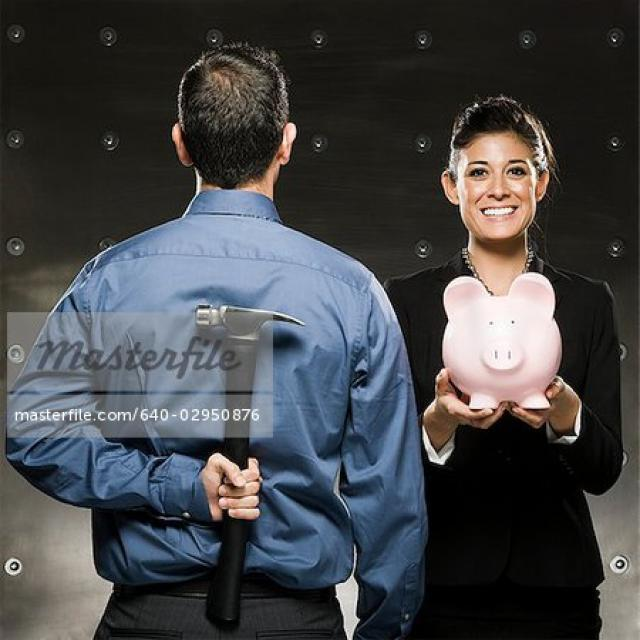hammer: (182, 302, 314, 634)
